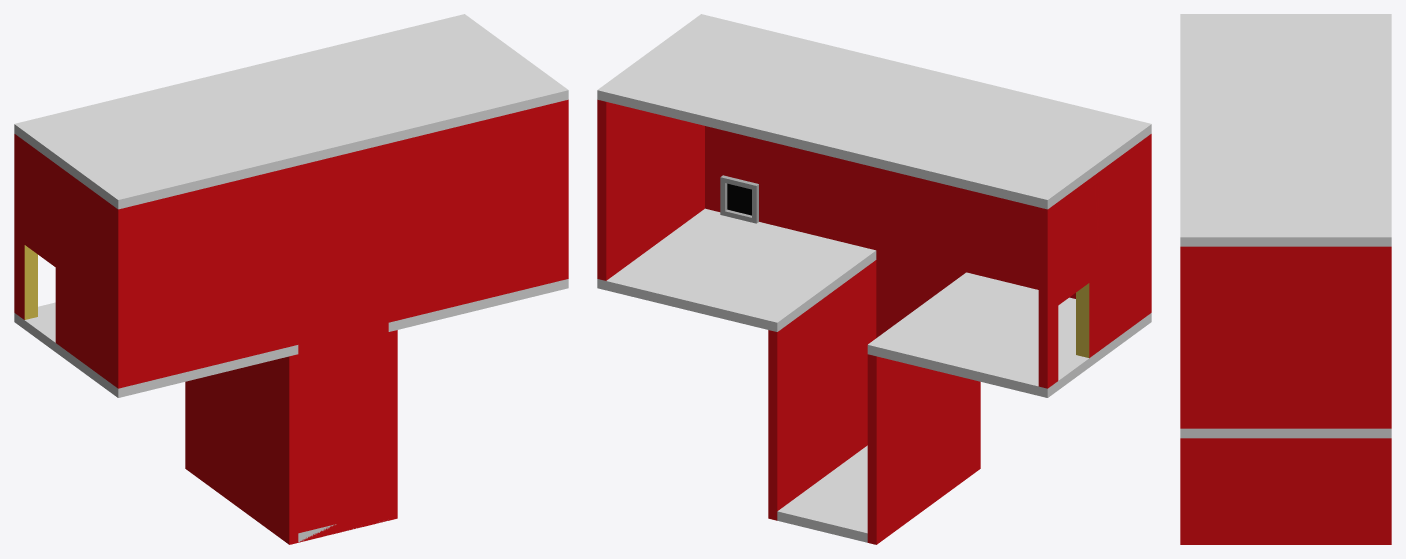
The model's file is Stairs_09_01.fbx.
The picture shows the model from 3 angles, left to right: view 1: azimuth 30°, elevation 25°; view 2: azimuth 150°, elevation 25°; view 3: azimuth 270°, elevation 25°; orthographic projection.
Visible parts, largest first — view 1: Stairs_09_01; view 2: Stairs_09_01; view 3: Stairs_09_01.
Boxes of the visible parts, <box> form: Stairs_09_01: <box>14,14,568,544</box>; Stairs_09_01: <box>597,14,1151,544</box>; Stairs_09_01: <box>1180,14,1391,544</box>.
Bounding box in the file's own units: 500 × 410 × 200.
